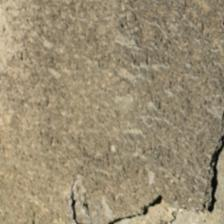Crack: (49, 59, 161, 165), (85, 0, 112, 57)
